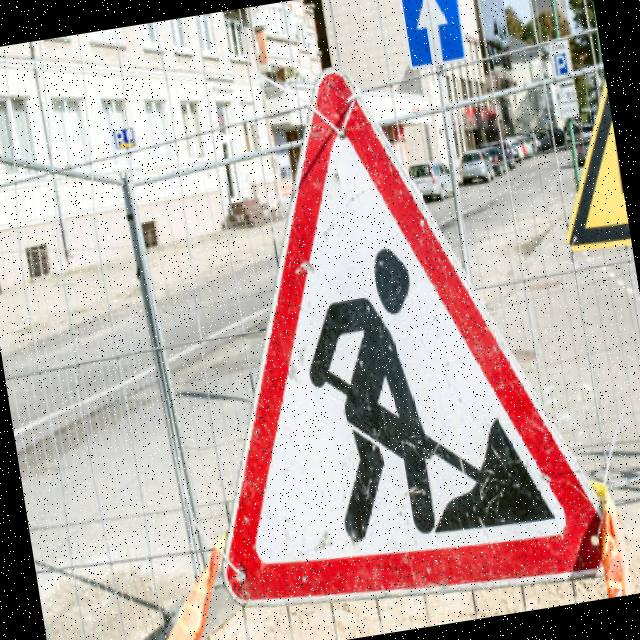road_work: (138, 38, 619, 640)
